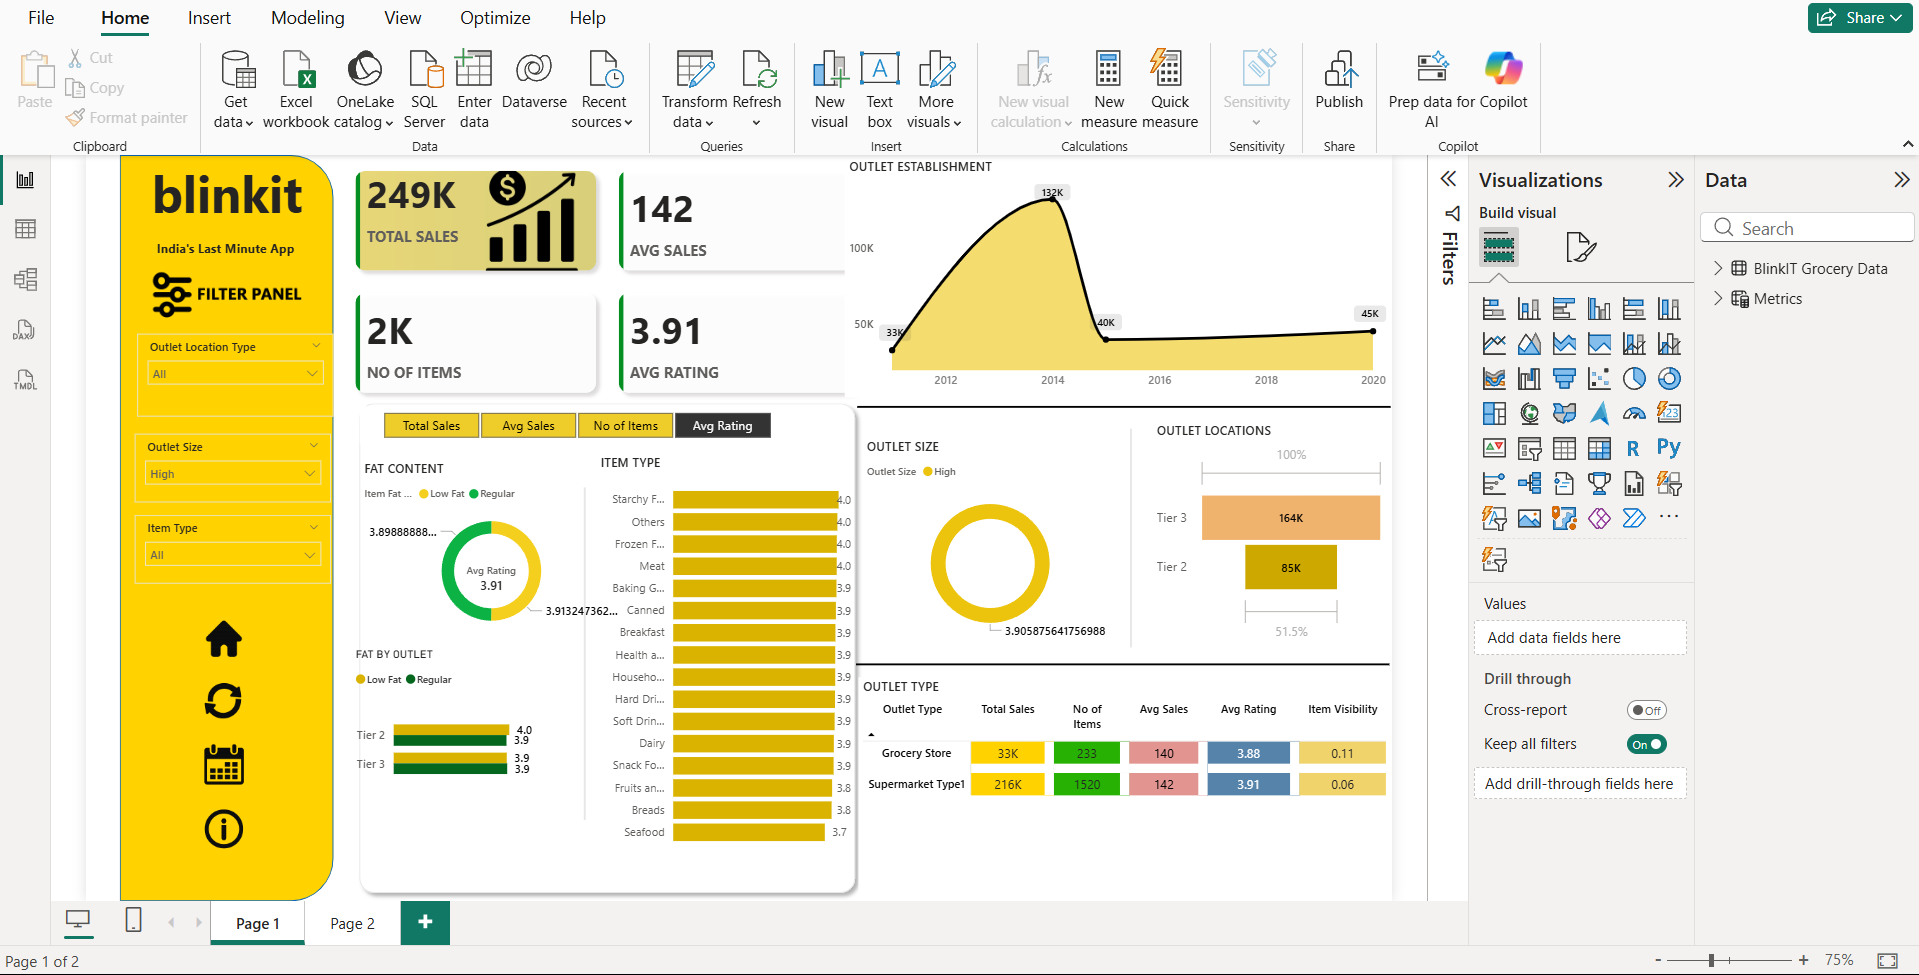

The page's visual inventory and layout, read from the dashboard file:
{"tool":"powerbi","page":{"name":"Page 1","canvas":[1400,800],"ordinal":0},"visuals":[{"type":"shape","box":[36.2,0,229.2,800.3],"z":0},{"type":"textbox","box":[40.2,0,222.5,85.8],"z":1000},{"type":"textbox","box":[42.9,85.8,226.5,55],"z":2000},{"type":"cardVisual","fields":{"Data":["BlinkIT Grocery Data.Total Sales","BlinkIT Grocery Data.Avg Sales","BlinkIT Grocery Data.No of Items","BlinkIT Grocery Data.Avg Rating"]},"box":[272.1,0,575.1,272.1],"z":3000},{"type":"shape","box":[284.2,257.4,549.6,542.9],"z":4000},{"type":"donutChart","title":"FAT CONTENT","fields":{"Y":["BlinkIT Grocery Data.Avg Rating"],"Category":["BlinkIT Grocery Data.Item Fat Content"]},"box":[293.6,327.1,282.8,193],"z":5000},{"type":"slicer","fields":{"Values":["Metrics.Metrics"]},"box":[293.3,268.9,464.4,40],"z":6000},{"type":"cardVisual","fields":{"Data":["BlinkIT Grocery Data.Avg Rating"]},"box":[368.9,413.3,132.2,82.2],"z":7000},{"type":"clusteredBarChart","title":"FAT BY OUTLET","fields":{"Y":["BlinkIT Grocery Data.Avg Rating"],"Category":["BlinkIT Grocery Data.Outlet Location Type"],"Series":["BlinkIT Grocery Data.Item Fat Content"]},"box":[284.4,527.8,251.1,168.9],"z":8000},{"type":"shape","box":[508,356.6,53.6,356.6],"z":9000},{"type":"barChart","title":"ITEM TYPE","fields":{"Y":["BlinkIT Grocery Data.Avg Rating"],"Category":["BlinkIT Grocery Data.Item Type"]},"box":[546.9,320.4,278.8,430.3],"z":10000},{"type":"lineChart","title":"OUTLET ESTABLISHMENT","fields":{"Y":["BlinkIT Grocery Data.Total Sales"],"Category":["BlinkIT Grocery Data.Outlet Establishment Year"]},"box":[813.7,2.7,585.8,257.4],"z":11000},{"type":"shape","box":[827.1,260.1,572.4,20.1],"z":12000},{"type":"donutChart","title":"OUTLET SIZE","fields":{"Y":["BlinkIT Grocery Data.Avg Rating"],"Category":["BlinkIT Grocery Data.Outlet Size"]},"box":[832.4,303,274.8,225.2],"z":13000},{"type":"shape","box":[1097.9,293.6,45.6,234.6],"z":14000},{"type":"funnel","title":"OUTLET LOCATIONS","fields":{"Y":["Sum(BlinkIT Grocery Data.Sales)"],"Category":["BlinkIT Grocery Data.Outlet Location Type"]},"box":[1143.4,285.5,254.7,242.6],"z":15000},{"type":"shape","box":[825.7,536.2,572.4,20.1],"z":16000},{"type":"pivotTable","title":"OUTLET TYPE","fields":{"Rows":["BlinkIT Grocery Data.Outlet Type"],"Values":["BlinkIT Grocery Data.Total Sales","BlinkIT Grocery Data.No of Items","BlinkIT Grocery Data.Avg Sales","BlinkIT Grocery Data.Avg Rating","Avg(BlinkIT Grocery Data.Item Visibility)"]},"box":[828.4,560.3,571,239.9],"z":17000},{"type":"slicer","fields":{"Values":["BlinkIT Grocery Data.Outlet Location Type"]},"box":[55,191.7,210.5,88.5],"z":18000},{"type":"slicer","fields":{"Values":["BlinkIT Grocery Data.Outlet Size"]},"box":[52.3,298.9,210.5,73.7],"z":19000},{"type":"slicer","fields":{"Values":["BlinkIT Grocery Data.Item Type"]},"box":[52.3,386.1,210.5,73.7],"z":20000},{"type":"image","box":[52.3,60.3,193,175.6],"z":21000},{"type":"image","box":[0,479.9,296.2,300.3],"z":22000}]}

Visuals, with their boxes on the page's 1400x800 design canvas (x1, y1, x2, y2). These are canvas units, not pixel positions in the 1919x975 screenshot, which may show the page scaled, cropped or inside an application window:
shape: <bbox>36, 0, 265, 800</bbox>
textbox: <bbox>40, 0, 263, 86</bbox>
textbox: <bbox>43, 86, 269, 141</bbox>
cardVisual - BlinkIT Grocery Data.Total Sales x BlinkIT Grocery Data.Avg Sales: <bbox>272, 0, 847, 272</bbox>
shape: <bbox>284, 257, 834, 800</bbox>
"FAT CONTENT" donutChart: <bbox>294, 327, 576, 520</bbox>
slicer - Metrics.Metrics: <bbox>293, 269, 758, 309</bbox>
cardVisual - BlinkIT Grocery Data.Avg Rating: <bbox>369, 413, 501, 496</bbox>
"FAT BY OUTLET" clusteredBarChart: <bbox>284, 528, 536, 697</bbox>
shape: <bbox>508, 357, 562, 713</bbox>
"ITEM TYPE" barChart: <bbox>547, 320, 826, 751</bbox>
"OUTLET ESTABLISHMENT" lineChart: <bbox>814, 3, 1400, 260</bbox>
shape: <bbox>827, 260, 1400, 280</bbox>
"OUTLET SIZE" donutChart: <bbox>832, 303, 1107, 528</bbox>
shape: <bbox>1098, 294, 1144, 528</bbox>
"OUTLET LOCATIONS" funnel: <bbox>1143, 286, 1398, 528</bbox>
shape: <bbox>826, 536, 1398, 556</bbox>
"OUTLET TYPE" pivotTable: <bbox>828, 560, 1399, 800</bbox>
slicer - BlinkIT Grocery Data.Outlet Location Type: <bbox>55, 192, 266, 280</bbox>
slicer - BlinkIT Grocery Data.Outlet Size: <bbox>52, 299, 263, 373</bbox>
slicer - BlinkIT Grocery Data.Item Type: <bbox>52, 386, 263, 460</bbox>
image: <bbox>52, 60, 245, 236</bbox>
image: <bbox>0, 480, 296, 780</bbox>
